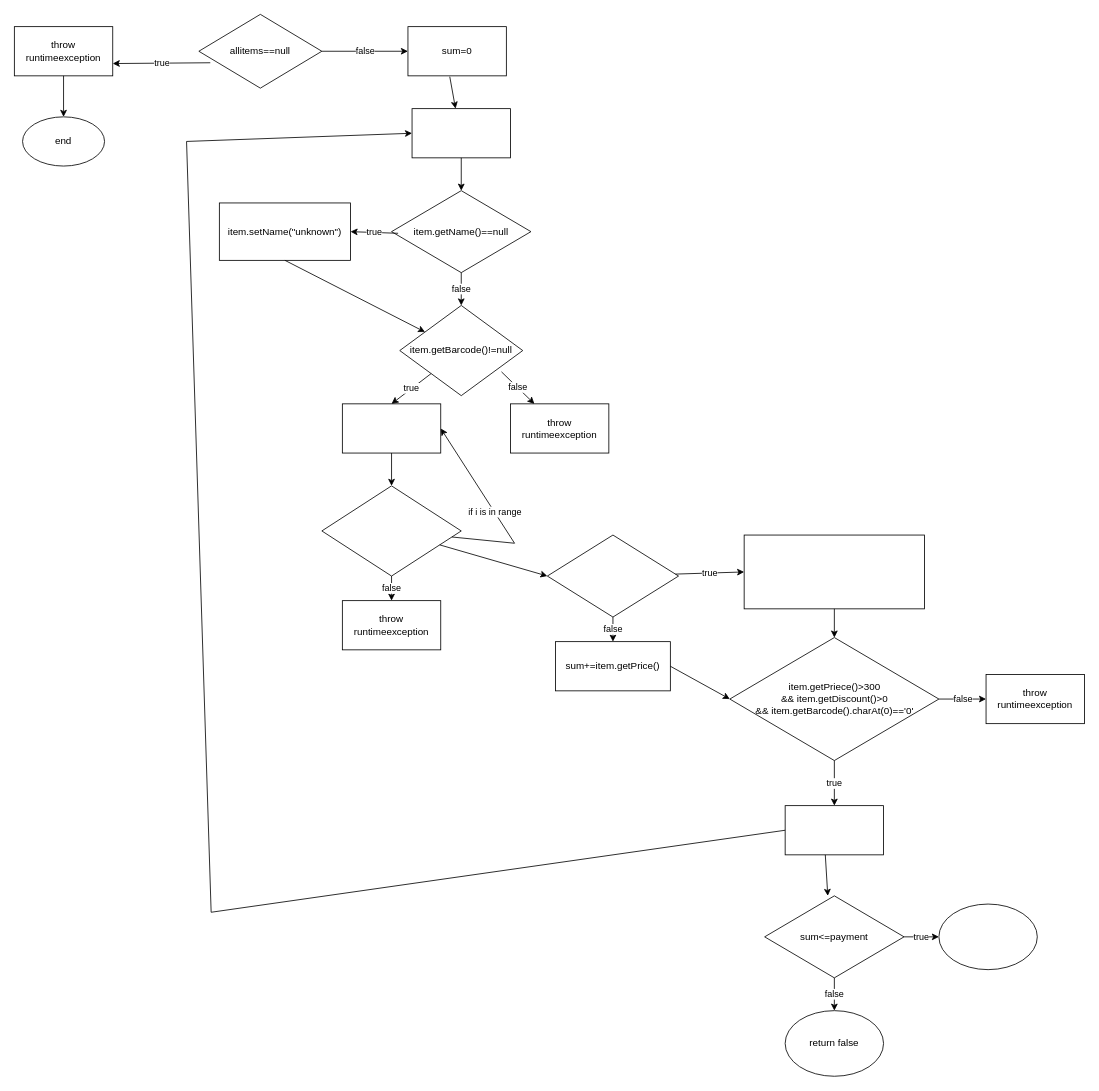
Image size: 1099x1091. Some labels were removed from this diagram. Each missing label, with the centre of its shape:
"barcode(i) in allowed chards" belongs at pixel 391 530.
"for i in barcode(as char arr)" belongs at pixel 391 428.
"item.discount>0" belongs at pixel 613 575.
"prevzemi go i-ot predmet od allitems" belongs at pixel 460 133.
"return true" belongs at pixel 987 936.
"sum+=item.getPrice()*item.getDiscount()" belongs at pixel 834 571.
"sum-=30" belongs at pixel 834 830.
